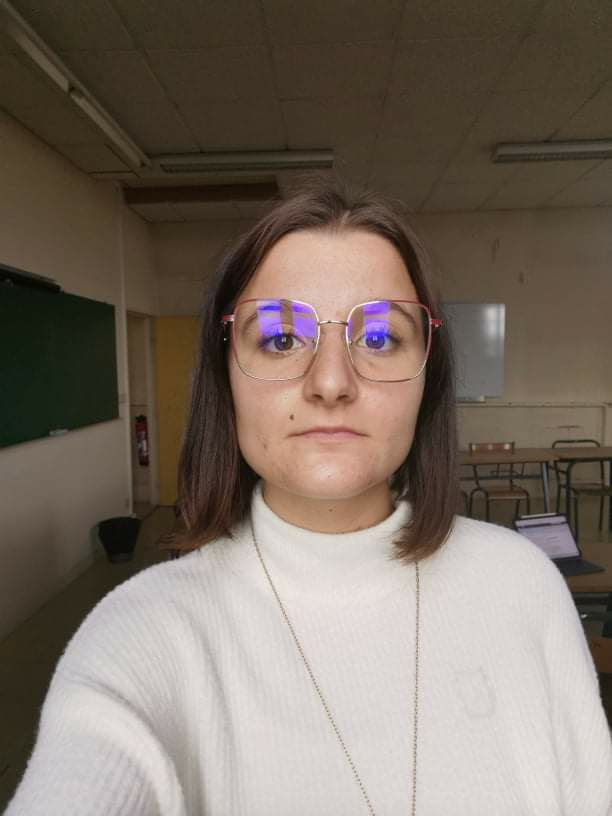without_mask: (202, 222, 439, 512)
